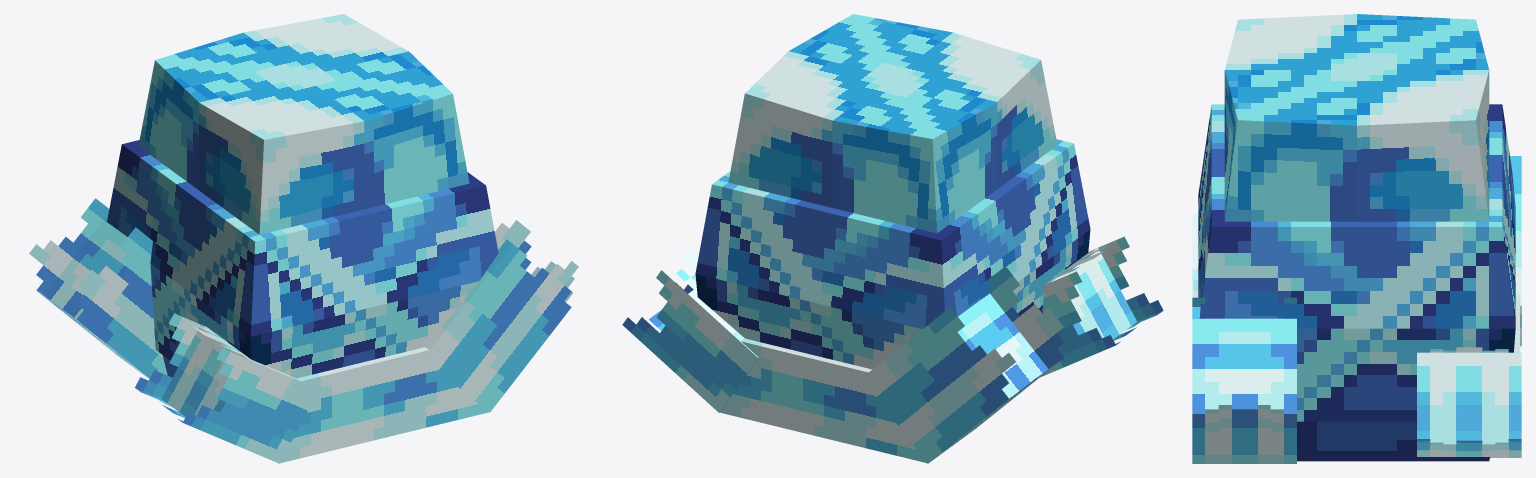
File: aquatus-egg.gltf
The picture shows the model from 3 angles, left to right: view 1: azimuth 30°, elevation 25°; view 2: azimuth 150°, elevation 25°; view 3: azimuth 270°, elevation 25°; orthographic projection. The views are drawn at different scales.
Visible parts, largest first — view 1: cube (×9); view 2: cube (×9); view 3: cube (×10).
Part boxes in pixels (x1,y1,x2,y2): cube (×9): (29,14,578,463); cube (×9): (622,14,1163,463); cube (×10): (1192,14,1521,463).
Size of the model in its own units: 1.28 by 0.875 by 0.7781.
Materials: 2 (2 with a texture image).
